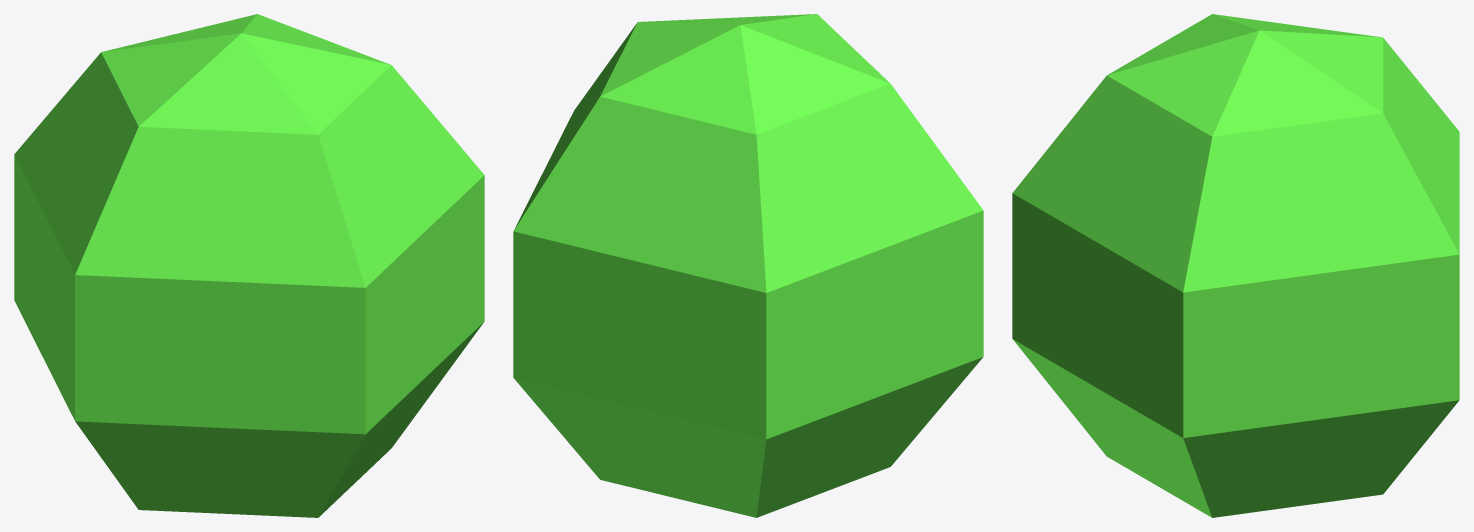
File: beanbeads01.obj
The picture shows the model from 3 angles, left to right: view 1: azimuth 30°, elevation 25°; view 2: azimuth 150°, elevation 25°; view 3: azimuth 270°, elevation 25°; orthographic projection.
Visible parts, largest first — view 1: Sphere; view 2: Sphere; view 3: Sphere.
Boxes of the visible parts, x1,y1,x2,y2 form: Sphere: (14,14,484,517); Sphere: (513,14,983,517); Sphere: (1012,14,1459,517).
Bounding box in the file's own units: 0.0107 × 0.0118 × 0.0102.
1 material, 1 textured.
